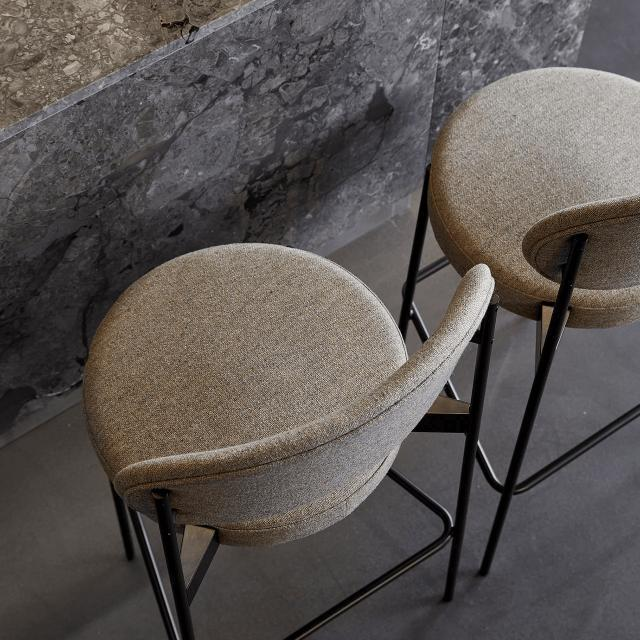chair: (81, 234, 498, 574), (407, 62, 640, 457)
